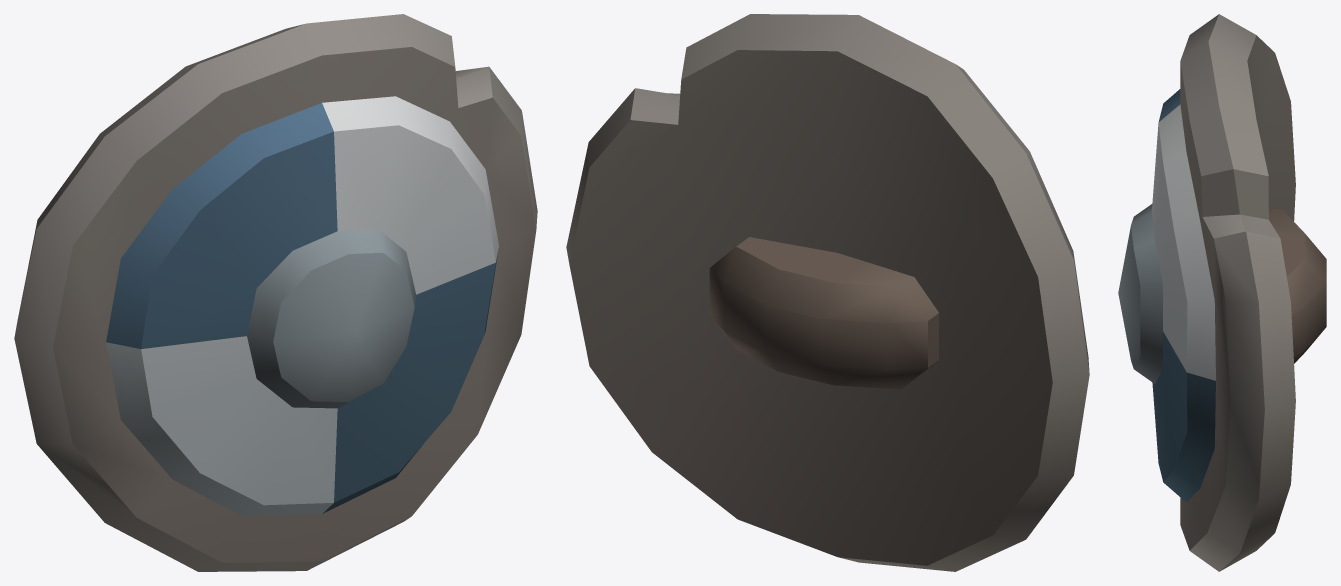
Rendered from gear-shield-round-barbarian.glb.
3 renders of one model, left to right at view 1: azimuth 30°, elevation 25°; view 2: azimuth 150°, elevation 25°; view 3: azimuth 270°, elevation 25°, orthographic. The views are drawn at different scales.
Parts seen in each view (by area): view 1: shield_round_barbarian; view 2: shield_round_barbarian; view 3: shield_round_barbarian.
Boxes of the visible parts, <box> form: shield_round_barbarian: <box>14,14,537,571</box>; shield_round_barbarian: <box>566,14,1089,571</box>; shield_round_barbarian: <box>1118,14,1326,571</box>.
Bounding box in the file's own units: 0.8826 × 0.8826 × 0.3319.
